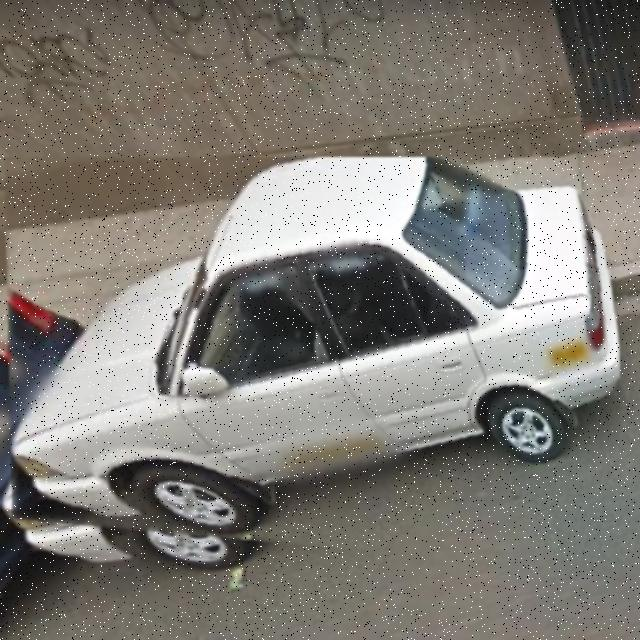car: (4, 158, 621, 575)
